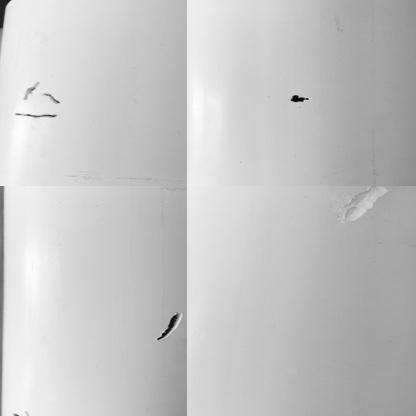fengxi: (11, 110, 61, 120), (46, 89, 69, 103)
kongdong: (156, 302, 183, 345), (286, 90, 316, 108)
sunshang: (335, 184, 389, 226), (18, 80, 41, 102)
